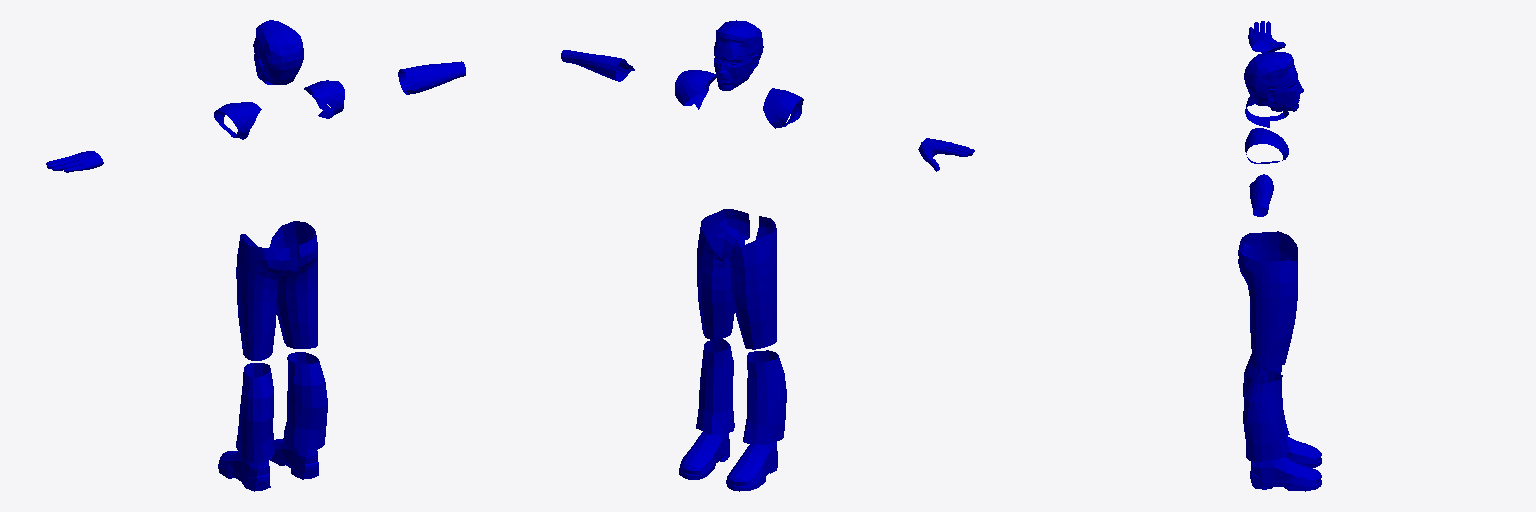
--- What the picture shows (computed from the rendered views, not written in the file) ---
3 views of the same robot in one strip: view 1: azimuth 30°, elevation 25°; view 2: azimuth 150°, elevation 25°; view 3: azimuth 270°, elevation 25° (orthographic).
Robot: vincent — 64 links, 63 joints (59 revolute, 3 prismatic, 1 fixed); root link root_link; default pose: every joint at zero.
Links seen in each view (by area): view 1: upper_left_leg_x_link, upper_right_leg_x_link, lower_right_leg_link, lower_left_leg_link, head_x_link, lower_right_arm_link, left_foot_x_link, right_foot_x_link, upper_left_arm_specula_link, upper_right_arm_specula_link, left_hand_x_link; view 2: upper_left_leg_x_link, upper_right_leg_x_link, lower_left_leg_link, lower_right_leg_link, head_x_link, left_foot_x_link, right_foot_x_link, lower_right_arm_link, upper_left_arm_specula_link, upper_right_arm_specula_link, left_hand_x_link; view 3: upper_right_leg_x_link, lower_right_leg_link, head_x_link, right_foot_x_link, upper_left_leg_x_link, lower_right_arm_link, left_hand_x_link, upper_right_arm_specula_link, left_foot_x_link.
Boxes of the visible links, bbox=[...] form: upper_left_leg_x_link: bbox=[236, 234, 290, 360]; upper_right_leg_x_link: bbox=[269, 221, 317, 348]; lower_right_leg_link: bbox=[283, 352, 327, 449]; lower_left_leg_link: bbox=[236, 363, 274, 462]; head_x_link: bbox=[253, 20, 303, 84]; lower_right_arm_link: bbox=[398, 61, 465, 94]; left_foot_x_link: bbox=[218, 451, 270, 491]; right_foot_x_link: bbox=[270, 439, 318, 479]; upper_left_arm_specula_link: bbox=[214, 102, 261, 139]; upper_right_arm_specula_link: bbox=[304, 80, 344, 118]; left_hand_x_link: bbox=[46, 151, 103, 172]; upper_left_leg_x_link: bbox=[729, 216, 776, 349]; upper_right_leg_x_link: bbox=[697, 209, 749, 340]; lower_left_leg_link: bbox=[743, 350, 786, 444]; lower_right_leg_link: bbox=[696, 339, 734, 434]; head_x_link: bbox=[714, 20, 763, 90]; left_foot_x_link: bbox=[726, 442, 777, 491]; right_foot_x_link: bbox=[679, 432, 729, 479]; lower_right_arm_link: bbox=[561, 50, 634, 81]; upper_left_arm_specula_link: bbox=[763, 88, 803, 128]; upper_right_arm_specula_link: bbox=[675, 70, 716, 109]; left_hand_x_link: bbox=[918, 138, 974, 171]; upper_right_leg_x_link: bbox=[1238, 252, 1297, 368]; lower_right_leg_link: bbox=[1243, 370, 1289, 461]; head_x_link: bbox=[1244, 52, 1303, 111]; right_foot_x_link: bbox=[1250, 456, 1321, 491]; upper_left_leg_x_link: bbox=[1238, 231, 1297, 283]; lower_right_arm_link: bbox=[1249, 174, 1273, 216]; left_hand_x_link: bbox=[1248, 21, 1285, 52]; upper_right_arm_specula_link: bbox=[1245, 128, 1288, 163]; left_foot_x_link: bbox=[1285, 436, 1321, 467].
Size in the robot's own frame: 1.71 by 0.321 by 1.77 metres.
11 mesh visuals loaded from 17 distinct referenced files (11 Collada DAE); not drawn: 6 (reference not matched to a file when rendering).

The robot description file, URDF, robot "vincent":
<?xml version="1.0"?>
<robot xmlns:sensor="http://playerstage.sourceforge.net/gazebo/xmlschema/#sensor"
       xmlns:controller="http://playerstage.sourceforge.net/gazebo/xmlschema/#controller"
       xmlns:interface="http://playerstage.sourceforge.net/gazebo/xmlschema/#interface"
       xmlns:xacro="http://playerstage.sourceforge.net/gazebo/xmlschema/#interface"
       name="vincent" >

  <material name="Blue">
    <color rgba="0.0 0.0 0.8 1.0"/>
  </material>
  <material name="Green">
    <color rgba="0.0 0.8 0.0 1.0"/>
  </material>
  <material name="Grey">
    <color rgba="0.7 0.7 0.7 1.0"/>
  </material>
  <material name="Grey2">
    <color rgba="0.9 0.9 0.9 1.0"/>
  </material>
  <material name="Red">
    <color rgba="0.8 0.0 0.0 1.0"/>
  </material>
  <material name="White">
    <color rgba="1.0 1.0 1.0 1.0"/>
  </material>
  <material name="Black">
    <color rgba="0.1 0.1 0.1 1.0"/>
  </material>
  <material name="LightGrey">
    <color rgba="0.6 0.6 0.6 1.0"/>
  </material>

  <link name="root_link"/>
  <link name="base_prismatic_dummy1"/>
  <link name="base_prismatic_dummy2"/>
  <link name="base_prismatic_dummy3"/>
  <link name="base_revolute_dummy1"/>
  <link name="base_revolute_dummy2"/>

  <joint name="base_prismatic_joint_x" type="prismatic">
    <axis xyz="1 0 0"/>
    <limit effort="10000" lower="-300.0" upper="300.0" velocity="0.6"/>
    <safety_controller k_position="100" k_velocity="2000000" soft_lower_limit="-300.0" soft_upper_limit="300.0"/>
    <calibration falling="0.00536"/>
    <dynamics damping="20000.0"/>
    <origin rpy="0 0 0" xyz="0 0 0.9619"/>
    <parent link="root_link"/>
    <child link="base_prismatic_dummy1"/>
  </joint>
  <joint name="base_prismatic_joint_y" type="prismatic">
    <axis xyz="0 1 0"/>
    <limit effort="10000" lower="-300.0" upper="300.0" velocity="0.6"/>
    <safety_controller k_position="100" k_velocity="2000000" soft_lower_limit="-300.0" soft_upper_limit="300.0"/>
    <calibration falling="0.00536"/>
    <dynamics damping="20000.0"/>
    <origin rpy="0 0 0" xyz="0 0 0"/>
    <parent link="base_prismatic_dummy1"/>
    <child link="base_prismatic_dummy2"/>
  </joint>
  <joint name="base_prismatic_joint_z" type="prismatic">
    <axis xyz="0 0 1"/>
    <limit effort="10000" lower="-10" upper="10" velocity="0.6"/>
    <safety_controller k_position="100" k_velocity="2000000" soft_lower_limit="-10" soft_upper_limit="10"/>
    <calibration falling="0.00536"/>
    <dynamics damping="20000.0"/>
    <origin rpy="0 0 0" xyz="0 0 0"/>
    <parent link="base_prismatic_dummy2"/>
    <child link="base_prismatic_dummy3"/>
  </joint>
  <joint name="base_revolute_joint_x" type="revolute">
    <axis xyz="1 0 0"/>
    <limit effort="15" lower="-1.57" upper="1.57" velocity="5"/>
    <origin rpy="0 0 0" xyz="0 0 0"/>
    <parent link="base_prismatic_dummy3"/>
    <child link="base_revolute_dummy1"/>
  </joint>
  <joint name="base_revolute_joint_y" type="revolute">
    <axis xyz="0 1 0"/>
    <limit effort="15" lower="-1.57" upper="1.57" velocity="5"/>
    <origin rpy="0 0 0" xyz="0 0 0"/>
    <parent link="base_revolute_dummy1"/>
    <child link="base_revolute_dummy2"/>
  </joint>
  <joint name="base_revolute_joint_z" type="revolute">
    <axis xyz="0 0 1"/>
    <limit effort="15" lower="-6.28" upper="6.28" velocity="5"/>
    <origin rpy="0 0 0" xyz="0 0 0"/>
    <parent link="base_revolute_dummy2"/>
    <child link="pelvis_link"/>
  </joint>  
  <link name="pelvis_link">
    <visual>
      <origin rpy="0 0 0" xyz="0 0 0"/>
      <geometry>
        <mesh filename="package://human_character_description/meshes/vincent/pelvis.dae"/>
      </geometry>
      <material name="Blue"/>
    </visual>
    <collision>
      <origin rpy="0 0 0" xyz="0 0 0"/>
      <geometry>
        <mesh filename="package://human_character_description/meshes/vincent/collision/pelvis_col.dae"/>
      </geometry>
    </collision>
    <inertial>
      <mass value="0"/>
      <inertia ixx="0.22" ixy="0.0" ixz="0.0" iyy="0.22" iyz="0.0" izz="0.23"/>
      <origin xyz="0 0 0"/>
    </inertial>
  </link>	  
  <joint name="torso_z_joint" type="revolute">
    <axis xyz="0 0 1"/>
    <limit effort="15" lower="-1.57" upper="1.57" velocity="5"/>
    <origin rpy="0 0 0" xyz="0.0 0.01576 0.09227"/>
    <parent link="pelvis_link"/>
    <child link="torso_z_link"/>
  </joint>
  <joint name="torso_y_joint" type="revolute">
    <axis xyz="0 1 0"/>
    <limit effort="15" lower="-1.57" upper="1.57" velocity="5"/>
    <origin rpy="0 0 0" xyz="0 0 0"/>
    <parent link="torso_z_link"/>
    <child link="torso_y_link"/>
  </joint>
  <joint name="torso_x_joint" type="revolute">
    <axis xyz="1 0 0"/>
    <limit effort="15" lower="-1.57" upper="0.5" velocity="5"/>
    <origin rpy="0 0 0" xyz="0 0 0"/>
    <parent link="torso_y_link"/>
    <child link="torso_x_link"/>
  </joint>  

  <link name="torso_z_link"/>
  <link name="torso_y_link"/>
  <link name="torso_x_link">
    <visual>
      <origin rpy="0 0 0" xyz="0 0 0"/>
      <geometry>
        <mesh filename="package://human_character_description/meshes/vincent/torso.dae"/>
      </geometry>
      <material name="Blue"/>
    </visual>
    <collision>
      <origin rpy="0 0 0" xyz="0 0 0"/>
      <geometry>
        <mesh filename="package://human_character_description/meshes/vincent/collision/torso_col.dae"/>
      </geometry>
    </collision>
    <inertial>
      <mass value="37.6936"/>
      <inertia ixx="1.308" ixy="0.0" ixz="0.0" iyy="1.308" iyz="0.0" izz="0.3119"/>
      <origin xyz="0 0 0.159042454"/>
    </inertial>
  </link>  
  
  <joint name="head_z_joint" type="revolute">
    <axis xyz="0 0 1"/>
    <limit effort="15" lower="-0.5" upper="0.5" velocity="5"/>
    <origin rpy="0 0 0" xyz="0.00002 -0.04885 0.48111"/>
    <parent link="torso_x_link"/>
    <child link="head_z_link"/>
  </joint>
  <joint name="head_y_joint" type="revolute">
    <axis xyz="0 1 0"/>
    <limit effort="15" lower="-0.5" upper="0.5" velocity="5"/>
    <origin rpy="0 0 0" xyz="0 0 0"/>
    <parent link="head_z_link"/>
    <child link="head_y_link"/>
  </joint>
  <joint name="head_x_joint" type="revolute">
    <axis xyz="1 0 0"/>
    <limit effort="15" lower="-0.5" upper="0.5" velocity="5"/>
    <origin rpy="0 0 0" xyz="0 0 0"/>
    <parent link="head_y_link"/>
    <child link="head_x_link"/>
  </joint>

  <link name="head_z_link"/>
  <link name="head_y_link"/>
  <link name="head_x_link">
    <visual>
      <origin rpy="0 0 0" xyz="0 0 0"/>
      <geometry>
        <mesh filename="package://human_character_description/meshes/vincent/head.dae"/>
      </geometry>
      <material name="Blue"/>
    </visual>
    <collision>
      <origin rpy="0 0 0" xyz="0 0 0"/>
      <geometry>
        <mesh filename="package://human_character_description/meshes/vincent/collision/head_col.dae"/>
      </geometry>
    </collision>
    <inertial>
      <mass value="5.4166"/>
      <inertia ixx="0.0248" ixy="0.0" ixz="0.0" iyy="0.0248" iyz="0.0" izz="0.0"/>
      <origin xyz="0.0 0.0 0.117409854"/>
    </inertial>
  </link>
  
  <joint name="head_endeffector_joint" type="fixed">
    <axis xyz="0 0 1"/>
    <limit effort="15" lower="-0.001" upper="0.001" velocity="5"/>
    <origin rpy="0 0 0" xyz="0 0.00981 0.21913"/>
    <parent link="head_x_link"/>
    <child link="head_endeffector_link"/>
  </joint>

  <link name="head_endeffector_link"/>

  <joint name="upper_left_leg_z_joint" type="revolute">
    <axis xyz="0 0 1"/>
    <limit effort="15" lower="-3.14" upper="3.14" velocity="5"/>
    <origin rpy="0 0 0" xyz="-0.09633 -0.00001 -0.03273"/>
    <parent link="pelvis_link"/>
    <child link="upper_left_leg_z_link"/>
  </joint>
  <joint name="upper_left_leg_y_joint" type="revolute">
    <axis xyz="0 1 0"/>
    <limit effort="15" lower="-3.14" upper="3.14" velocity="5"/>
    <origin rpy="0 0 0" xyz="0 0 0"/>
    <parent link="upper_left_leg_z_link"/>
    <child link="upper_left_leg_y_link"/>
  </joint>
  <joint name="upper_left_leg_x_joint" type="revolute">
    <axis xyz="1 0 0"/>
    <limit effort="15" lower="-3.14" upper="3.14" velocity="5"/>
    <origin rpy="0 0 0" xyz="0 0 0"/>
    <parent link="upper_left_leg_y_link"/>
    <child link="upper_left_leg_x_link"/>
  </joint>

  <link name="upper_left_leg_z_link"/>
  <link name="upper_left_leg_y_link"/>
  <link name="upper_left_leg_x_link">
    <visual>
      <origin rpy="0 0 0" xyz="0 0 0"/>
      <geometry>
        <mesh filename="package://human_character_description/meshes/vincent/l_upperleg.dae"/>
      </geometry>
      <material name="Blue"/>
    </visual>
    <collision>
      <origin rpy="0 0 0" xyz="0 0 0"/>
      <geometry>
        <mesh filename="package://human_character_description/meshes/vincent/collision/l_upperleg_col.dae"/>
      </geometry>
    </collision>
    <inertial>
      <mass value="7.33096"/>
      <inertia ixx="0.1502" ixy="0.0" ixz="0.0" iyy="0.1502" iyz="0.0" izz="0.0"/>
      <origin xyz="0.0 0.0 -0.18082513"/>
    </inertial>
  </link>

  <joint name="lower_left_leg_joint" type="revolute">
    <axis xyz="1 0 0"/>
    <limit effort="15" lower="-3.14" upper="0.1" velocity="5"/>
    <origin rpy="0 0 0" xyz="0 -0.00654 -0.41761"/>
    <parent link="upper_left_leg_x_link"/>
    <child link="lower_left_leg_link"/>
  </joint>

  <link name="lower_left_leg_link">
    <visual>
      <origin rpy="0 0 0" xyz="0 0 0"/>
      <geometry>
        <mesh filename="package://human_character_description/meshes/vincent/l_lowerleg.dae"/>
      </geometry>
      <material name="Blue"/>
    </visual>
    <collision>
      <origin rpy="0 0 0" xyz="0 0 0"/>
      <geometry>
        <mesh filename="package://human_character_description/meshes/vincent/collision/l_lowerleg_col.dae"/>
      </geometry>
    </collision>
    <inertial>
      <mass value="3.4503"/>
      <inertia ixx="0.0505" ixy="0.0" ixz="0.0" iyy="0.0505" iyz="0.0" izz="0.0"/>
      <origin xyz="0.0 0.0 -0.16954548"/>
    </inertial>
  </link>

  <joint name="left_foot_z_joint" type="revolute">
    <axis xyz="0 0 1"/>
    <limit effort="15" lower="-3.14" upper="3.14" velocity="5"/>
    <origin rpy="0 0 0" xyz="-0.00012 -0.01923 -0.39156"/>
    <parent link="lower_left_leg_link"/>
    <child link="left_foot_z_link"/>
  </joint>
  <joint name="left_foot_y_joint" type="revolute">
    <axis xyz="0 1 0"/>
    <limit effort="15" lower="-3.14" upper="3.14" velocity="5"/>
    <origin rpy="0 0 0" xyz="0 0 0"/>
    <parent link="left_foot_z_link"/>
    <child link="left_foot_y_link"/>
  </joint>
  <joint name="left_foot_x_joint" type="revolute">
    <axis xyz="1 0 0"/>
    <limit effort="15" lower="-3.14" upper="3.14" velocity="5"/>
    <origin rpy="0 0 0" xyz="0 0 0"/>
    <parent link="left_foot_y_link"/>
    <child link="left_foot_x_link"/>
  </joint>

  <link name="left_foot_z_link"/>
  <link name="left_foot_y_link"/>
  <link name="left_foot_x_link">
    <visual>
      <origin rpy="0 0 0" xyz="0 0 0"/>
      <geometry>
        <mesh filename="package://human_character_description/meshes/vincent/l_foot.dae"/>
      </geometry>
      <material name="Blue"/>
    </visual>
    <collision>
      <origin rpy="0 0 0" xyz="0 0 0"/>
      <geometry>
        <mesh filename="package://human_character_description/meshes/vincent/collision/l_foot_col.dae"/>
      </geometry>
    </collision>
    <inertial>
      <mass value="1.0759"/>
      <inertia ixx="0.0" ixy="0.0" ixz="0.0" iyy="0.0038" iyz="0.0" izz="0.0"/>
      <origin xyz="-0.00861 0.08296 -0.06"/>
    </inertial>
  </link>
	
	  
  <joint name="left_foot_endeffector_joint" type="revolute">
    <axis xyz="0 0 1"/>
    <limit effort="15" lower="0.0" upper="0.0" velocity="5"/>
    <origin rpy="0 0 0" xyz="0 0 -0.12"/>
    <parent link="left_foot_x_link"/>
    <child link="left_foot_endeffector_link"/>
  </joint>

  <link name="left_foot_endeffector_link"/>  

  <joint name="upper_right_leg_z_joint" type="revolute">
    <axis xyz="0 0 1"/>
    <limit effort="15" lower="-3.14" upper="3.14" velocity="5"/>
    <origin rpy="0 0 0" xyz="0.09635 -0.00001 -0.03273"/> 
    <parent link="pelvis_link"/>
    <child link="upper_right_leg_z_link"/>
  </joint>
  <joint name="upper_right_leg_y_joint" type="revolute">
    <axis xyz="0 1 0"/>
    <limit effort="15" lower="-3.14" upper="3.14" velocity="5"/>
    <origin rpy="0 0 0" xyz="0 0 0"/>
    <parent link="upper_right_leg_z_link"/>
    <child link="upper_right_leg_y_link"/>
  </joint>
  <joint name="upper_right_leg_x_joint" type="revolute">
    <axis xyz="1 0 0"/>
    <limit effort="15" lower="-3.14" upper="3.14" velocity="5"/>
    <origin rpy="0 0 0" xyz="0 0 0"/>
    <parent link="upper_right_leg_y_link"/>
    <child link="upper_right_leg_x_link"/>
  </joint>

  <link name="upper_right_leg_z_link"/>
  <link name="upper_right_leg_y_link"/>
  <link name="upper_right_leg_x_link">
    <visual>
      <origin rpy="0 0 0" xyz="0 0 0"/>
      <geometry>
        <mesh filename="package://human_character_description/meshes/vincent/r_upperleg.dae"/>
      </geometry>
      <material name="Blue"/>
    </visual>
    <collision>
      <origin rpy="0 0 0" xyz="0 0 0"/>
      <geometry>
        <mesh filename="package://human_character_description/meshes/vincent/collision/r_upperleg_col.dae"/>
      </geometry>
    </collision>
    <inertial>
      <mass value="7.33096"/>
      <inertia ixx="0.1502" ixy="0.0" ixz="0.0" iyy="0.1502" iyz="0.0" izz="0.0"/>
      <origin xyz="0.0 0.0 -0.18082513"/>
    </inertial>
  </link>

  <joint name="lower_right_leg_joint" type="revolute">
    <axis xyz="1 0 0"/>
    <limit effort="15" lower="-3.14" upper="0.1" velocity="5"/>
    <origin rpy="0 0 0" xyz="0 -0.00654 -0.41761"/>
    <parent link="upper_right_leg_x_link"/>
    <child link="lower_right_leg_link"/>
  </joint>

  <link name="lower_right_leg_link">
    <visual>
      <origin rpy="0 0 0" xyz="0 0 0"/>
      <geometry>
        <mesh filename="package://human_character_description/meshes/vincent/r_lowerleg.dae"/>
      </geometry>
      <material name="Blue"/>
    </visual>
    <collision>
      <origin rpy="0 0 0" xyz="0 0 0"/>
      <geometry>
        <mesh filename="package://human_character_description/meshes/vincent/collision/r_lowerleg_col.dae"/>
      </geometry>
    </collision>
    <inertial>
      <mass value="3.4503"/>
      <inertia ixx="0.0505" ixy="0.0" ixz="0.0" iyy="0.0505" iyz="0.0" izz="0.0"/>
      <origin xyz="0.0 0.0 -0.16954548"/>
    </inertial>
  </link>

  <joint name="right_foot_z_joint" type="revolute">
    <axis xyz="0 0 1"/>
    <limit effort="15" lower="-3.14" upper="3.14" velocity="5"/>
    <origin rpy="0 0 0" xyz="-0.00013 -0.01923 -0.39156"/>
    <parent link="lower_right_leg_link"/>
    <child link="right_foot_z_link"/>
  </joint>
  <joint name="right_foot_y_joint" type="revolute">
    <axis xyz="0 1 0"/>
    <limit effort="15" lower="-3.14" upper="3.14" velocity="5"/>
    <origin rpy="0 0 0" xyz="0 0 0"/>
    <parent link="right_foot_z_link"/>
    <child link="right_foot_y_link"/>
  </joint>
  <joint name="right_foot_x_joint" type="revolute">
    <axis xyz="1 0 0"/>
    <limit effort="15" lower="-3.14" upper="3.14" velocity="5"/>
    <origin rpy="0 0 0" xyz="0 0 0"/>
    <parent link="right_foot_y_link"/>
    <child link="right_foot_x_link"/>
  </joint>

  <link name="right_foot_z_link"/>
  <link name="right_foot_y_link"/>
  <link name="right_foot_x_link">
    <visual>
      <origin rpy="0 0 0" xyz="0 0 0"/>
      <geometry>
        <mesh filename="package://human_character_description/meshes/vincent/r_foot.dae"/>
      </geometry>
      <material name="Blue"/>
    </visual>
    <collision>
      <origin rpy="0 0 0" xyz="0 0 0"/>
      <geometry>
        <mesh filename="package://human_character_description/meshes/vincent/collision/r_foot_col.dae"/>
      </geometry>
    </collision>
    <inertial>
      <mass value="1.0759"/>
      <inertia ixx="0.0" ixy="0.0" ixz="0.0" iyy="0.0038" iyz="0.0" izz="0.0"/>
      <origin xyz="0.00861 0.08296 -0.06"/>
    </inertial>
  </link>
  	  
  <joint name="right_foot_endeffector_joint" type="revolute">
    <axis xyz="0 0 1"/>
    <limit effort="15" lower="0.0" upper="0.0" velocity="5"/>
    <origin rpy="0 0 0" xyz="0 0 -0.12"/>
    <parent link="right_foot_x_link"/>
    <child link="right_foot_endeffector_link"/>
  </joint>

  <link name="right_foot_endeffector_link"/>

  <joint name="upper_left_specula_joint" type="revolute">
    <axis xyz="0 0 1"/>
    <limit effort="15" lower="-0.5" upper="0.5" velocity="5"/>
    <origin rpy="0 0 0" xyz="-0.06142 -0.05251 0.4008"/>
    <parent link="torso_x_link"/>
    <child link="upper_left_arm_specula_link"/>
  </joint>
  
  <link name="upper_left_arm_specula_link">
      <visual>
      <origin rpy="0 0 0" xyz="0 0 0"/>
      <geometry>
        <mesh filename="package://human_character_description/meshes/vincent/l_speculum.dae"/>
      </geometry>
      <material name="Blue"/>
    </visual>
    <collision>
      <origin rpy="0 0 0" xyz="0 0 0"/>
      <geometry>
        <mesh filename="package://human_character_description/meshes/vincent/collision/l_speculum_col.dae"/>
      </geometry>
    </collision>
    <inertial>
      <mass value="0.0"/>
      <inertia ixx="0.01" ixy="0.0" ixz="0.0" iyy="0.01" iyz="0.0" izz="0.01"/>
      <origin xyz="0.0 0.0 0.0"/>
    </inertial>
  </link>

  <joint name="upper_left_arm_x_joint" type="revolute">
    <axis xyz="1 0 0"/>
    <limit effort="15" lower="-6.28" upper="6.28" velocity="5"/>
    <origin rpy="0 0 0" xyz="-0.12319 0.0363053 -0.01113"/>
    <parent link="upper_left_arm_specula_link"/>
    <child link="upper_left_arm_x_link"/>
  </joint>
  <joint name="upper_left_arm_y_joint" type="revolute">
    <axis xyz="0 1 0"/>
    <limit effort="15" lower="-6.28" upper="6.28" velocity="5"/>
    <origin rpy="0 0 0" xyz="0 0 0"/>
    <parent link="upper_left_arm_x_link"/>
    <child link="upper_left_arm_y_link"/>
  </joint>
  <joint name="upper_left_arm_z_joint" type="revolute">
    <axis xyz="0 0 1"/>
    <limit effort="15" lower="-6.28" upper="6.28" velocity="5"/>
    <origin rpy="0 0 0" xyz="0 0 0"/>
    <parent link="upper_left_arm_y_link"/>
    <child link="upper_left_arm_z_link"/>
  </joint>

  <link name="upper_left_arm_x_link"/>
  <link name="upper_left_arm_y_link"/>
  <link name="upper_left_arm_z_link">
    <visual>
      <origin rpy="0 0 0" xyz="0 0 0"/>
      <geometry>
        <mesh filename="package://human_character_description/meshes/vincent/l_upperarm.dae"/>
      </geometry>
      <material name="Blue"/>
    </visual>
    <collision>
      <origin rpy="0 0 0" xyz="0 0 0"/>
      <geometry>
        <mesh filename="package://human_character_description/meshes/vincent/collision/l_upperarm_col.dae"/>
      </geometry>
    </collision>
    <inertial>
      <mass value="2.0034"/>
      <inertia ixx="0.0" ixy="0.0" ixz="0.0" iyy="0.0213" iyz="0.0" izz="0.0213"/>
      <origin xyz="-0.12071532 0.0 0.0"/>
    </inertial>
  </link>

  <joint name="lower_left_arm_joint" type="revolute">
    <axis xyz="0 0 1"/>
    <limit effort="15" lower="-2.5" upper="0.1" velocity="5"/>
    <origin rpy="0 0 0" xyz="-0.27687 -0.02 0.0"/>
    <parent link="upper_left_arm_z_link"/>
    <child link="lower_left_arm_link"/>
  </joint>

  <link name="lower_left_arm_link">
    <visual>
      <origin rpy="0 0 0" xyz="0 0 0"/>
      <geometry>
        <mesh filename="package://human_character_description/meshes/vincent/l_forearm.dae"/>
      </geometry>
      <material name="Blue"/>
    </visual>
    <collision>
      <origin rpy="0 0 0" xyz="0 0 0"/>
      <geometry>
        <mesh filename="package://human_character_description/meshes/vincent/collision/l_forearm_col.dae"/>
      </geometry>
    </collision>
    <inertial>
      <mass value="1.1872"/>
      <inertia ixx="0.0" ixy="0.0" ixz="0.0" iyy="0.076" iyz="0.0" izz="0.076"/>
      <origin xyz="-0.1198582 0.0 0.0"/>
    </inertial>
  </link>

  <joint name="left_hand_z_joint" type="revolute">
    <axis xyz="0 0 1"/>
    <limit effort="15" lower="-6.28" upper="6.28" velocity="5"/>
    <origin rpy="0 0 0" xyz="-0.27874 0.0 0.0"/>
    <parent link="lower_left_arm_link"/>
    <child link="left_hand_z_link"/>
  </joint>
  <joint name="left_hand_y_joint" type="revolute">
    <axis xyz="0 1 0"/>
    <limit effort="15" lower="-6.28" upper="6.28" velocity="5"/>
    <origin rpy="0 0 0" xyz="0 0 0"/>
    <parent link="left_hand_z_link"/>
    <child link="left_hand_y_link"/>
  </joint>
  <joint name="left_hand_x_joint" type="revolute">
    <axis xyz="1 0 0"/>
    <limit effort="15" lower="-6.28" upper="6.28" velocity="5"/>
    <origin rpy="0 0 0" xyz="0 0 0"/>
    <parent link="left_hand_y_link"/>
    <child link="left_hand_x_link"/>
  </joint>

  <link name="left_hand_z_link"/>
  <link name="left_hand_y_link"/>
  <link name="left_hand_x_link">
    <visual>
      <origin rpy="0 0 0" xyz="0 0 0"/>
      <geometry>
        <mesh filename="package://human_character_description/meshes/vincent/l_hand.dae"/>
      </geometry>
      <material name="Blue"/>
    </visual>
    <collision>
      <origin rpy="0 0 0" xyz="0 0 0"/>
      <geometry>
        <mesh filename="package://human_character_description/meshes/vincent/collision/l_hand_col.dae"/>
      </geometry>
    </collision>
    <inertial>
      <mass value="0.48972"/>
      <inertia ixx="0.0" ixy="0.0" ixz="0.0" iyy="0.0005" iyz="0.0" izz="0.0005"/>
      <origin xyz="-0.04806494 0.0 0.0"/>
    </inertial>
  </link>

  <joint name="left_hand_endeffector_joint" type="revolute">
    <axis xyz="0 0 1"/>
    <limit effort="15" lower="-0.001" upper="0.001" velocity="5"/>
    <origin rpy="0 0 0" xyz="-0.015 0.0 -0.01"/>
        <parent link="left_hand_x_link"/>
    <child link="left_hand_endeffector_link"/>
  </joint>

  <link name="left_hand_endeffector_link"/>
  
  <joint name="upper_right_specula_joint" type="revolute">
    <axis xyz="0 0 1"/>
    <limit effort="15" lower="-0.5" upper="0.5" velocity="5"/>
    <origin rpy="0 0 0" xyz="0.06142 -0.05251 0.4008"/>
    <parent link="torso_x_link"/>
    <child link="upper_right_arm_specula_link"/>
  </joint>
    
  <link name="upper_right_arm_specula_link">
      <visual>
      <origin rpy="0 0 0" xyz="0 0 0"/>
      <geometry>
        <mesh filename="package://human_character_description/meshes/vincent/r_speculum.dae"/>
      </geometry>
      <material name="Blue"/>
    </visual>
    <collision>
      <origin rpy="0 0 0" xyz="0 0 0"/>
      <geometry>
        <mesh filename="package://human_character_description/meshes/vincent/collision/r_speculum_col.dae"/>
      </geometry>
    </collision>
    <inertial>
      <mass value="0.0"/>
      <inertia ixx="0.01" ixy="0.0" ixz="0.0" iyy="0.01" iyz="0.0" izz="0.01"/>
      <origin xyz="0.0 0.0 0.0"/>
    </inertial>
  </link>

  <joint name="upper_right_arm_x_joint" type="revolute">
    <axis xyz="1 0 0"/>
    <limit effort="15" lower="-6.28" upper="6.28" velocity="5"/>
    <origin rpy="0 0 0" xyz="0.12323 0.0363053 -0.01113"/>
    <parent link="upper_right_arm_specula_link"/>
    <child link="upper_right_arm_x_link"/>
  </joint>
  <joint name="upper_right_arm_y_joint" type="revolute">
    <axis xyz="0 1 0"/>
    <limit effort="15" lower="-6.28" upper="6.28" velocity="5"/>
    <origin rpy="0 0 0" xyz="0 0 0"/>
    <parent link="upper_right_arm_x_link"/>
    <child link="upper_right_arm_y_link"/>
  </joint>
  <joint name="upper_right_arm_z_joint" type="revolute">
    <axis xyz="0 0 1"/>
    <limit effort="15" lower="-6.28" upper="6.28" velocity="5"/>
    <origin rpy="0 0 0" xyz="0 0 0"/>
    <parent link="upper_right_arm_y_link"/>
    <child link="upper_right_arm_z_link"/>
  </joint>

  <link name="upper_right_arm_x_link"/>
  <link name="upper_right_arm_y_link"/>
  <link name="upper_right_arm_z_link">
    <visual>
      <origin rpy="0 0 0" xyz="0 0 0"/>
      <geometry>
        <mesh filename="package://human_character_description/meshes/vincent/r_upperarm.dae"/>
      </geometry>
      <material name="Blue"/>
    </visual>
    <collision>
      <origin rpy="0 0 0" xyz="0 0 0"/>
      <geometry>
        <mesh filename="package://human_character_description/meshes/vincent/collision/r_upperarm_col.dae"/>
      </geometry>
    </collision>
    <inertial>
      <mass value="2.0034"/>
      <inertia ixx="0.0" ixy="0.0" ixz="0.0" iyy="0.0213" iyz="0.0" izz="0.0213"/>
      <origin xyz="0.12071532 0.0 0.0"/>
    </inertial>
  </link>


  <joint name="lower_right_arm_joint" type="revolute">
    <axis xyz="0 0 1"/>
    <limit effort="15" lower="-0.1" upper="2.5" velocity="5"/>
    <origin rpy="0 0 0" xyz="0.27687 -0.02 0.0"/>
    <parent link="upper_right_arm_z_link"/>
    <child link="lower_right_arm_link"/>
  </joint>

  <link name="lower_right_arm_link">
    <visual>
      <origin rpy="0 0 0" xyz="0 0 0"/>
      <geometry>
        <mesh filename="package://human_character_description/meshes/vincent/r_forearm.dae"/>
      </geometry>
      <material name="Blue"/>
    </visual>
    <collision>
      <origin rpy="0 0 0" xyz="0 0 0"/>
      <geometry>
        <mesh filename="package://human_character_description/meshes/vincent/collision/r_forearm_col.dae"/>
      </geometry>
    </collision>
    <inertial>
      <mass value="1.1872"/>
      <inertia ixx="0.0" ixy="0.0" ixz="0.0" iyy="0.076" iyz="0.0" izz="0.076"/>
      <origin xyz="0.1198582 0.0 0.0"/>
    </inertial>
  </link>

  <joint name="right_hand_z_joint" type="revolute">
    <axis xyz="0 0 1"/>
    <limit effort="15" lower="-6.28" upper="6.28" velocity="5"/>
    <origin rpy="0 0 0" xyz="0.27874 0.0 0.0"/>
    <parent link="lower_right_arm_link"/>
    <child link="right_hand_z_link"/>
  </joint>
  <joint name="right_hand_y_joint" type="revolute">
    <axis xyz="0 1 0"/>
    <limit effort="15" lower="-6.28" upper="6.28" velocity="5"/>
    <origin rpy="0 0 0" xyz="0 0 0"/>
    <parent link="right_hand_z_link"/>
    <child link="right_hand_y_link"/>
  </joint>
  <joint name="right_hand_x_joint" type="revolute">
    <axis xyz="1 0 0"/>
    <limit effort="15" lower="-6.28" upper="6.28" velocity="5"/>
    <origin rpy="0 0 0" xyz="0 0 0"/>
    <parent link="right_hand_y_link"/>
    <child link="right_hand_x_link"/>
  </joint>

  <link name="right_hand_z_link"/>
  <link name="right_hand_y_link"/>
  <link name="right_hand_x_link">
    <visual>
      <origin rpy="0 0 0" xyz="0 0 0"/>
      <geometry>
        <mesh filename="package://human_character_description/meshes/vincent/r_hand.dae"/>
      </geometry>
      <material name="Blue"/>
    </visual>
    <collision>
      <origin rpy="0 0 0" xyz="0 0 0"/>
      <geometry>
        <mesh filename="package://human_character_description/meshes/vincent/collision/r_hand_col.dae"/>
      </geometry>
    </collision>
    <inertial>
      <mass value="0.48972"/>
      <inertia ixx="0.0" ixy="0.0" ixz="0.0" iyy="0.0005" iyz="0.0" izz="0.0005"/>
      <origin xyz="0.04806494 0.0 0.0"/>
    </inertial>
  </link>

  <joint name="right_hand_endeffector_joint" type="revolute">
    <axis xyz="0 0 1"/>
    <limit effort="15" lower="-0.001" upper="0.001" velocity="5"/>
    <origin rpy="0 0 0" xyz="0.015 0.0 -0.01"/>
    <parent link="right_hand_x_link"/>
    <child link="right_hand_endeffector_link"/>
  </joint>

  <link name="right_hand_endeffector_link"/>

  <link name="left_foot_cp_1_link"/>
  <link name="left_foot_cp_2_link"/>
  <link name="left_foot_cp_3_link"/>
  <link name="left_foot_cp_4_link"/>

  <joint name="left_foot_cp_1_joint" type="revolute">
    <axis xyz="0 0 1"/>
    <limit effort="15" lower="0" upper="0" velocity="5"/>
    <origin rpy="0 0 0" xyz="0.04 0.22 0.0"/>
    <parent link="left_foot_endeffector_link"/>
    <child link="left_foot_cp_1_link"/>
  </joint>
  <joint name="left_foot_cp_2_joint" type="revolute">
    <axis xyz="0 0 1"/>
    <limit effort="15" lower="0" upper="0" velocity="5"/>
    <origin rpy="0 0 0" xyz="-0.06 0.22 0.0"/>
    <parent link="left_foot_endeffector_link"/>
    <child link="left_foot_cp_2_link"/>
  </joint>
  <joint name="left_foot_cp_3_joint" type="revolute">
    <axis xyz="0 0 1"/>
    <limit effort="15" lower="0" upper="0" velocity="5"/>
    <origin rpy="0 0 0" xyz="-0.06 -0.02 0.0"/>
    <parent link="left_foot_endeffector_link"/>
    <child link="left_foot_cp_3_link"/>
  </joint>
  <joint name="left_foot_cp_4_joint" type="revolute">
    <axis xyz="0 0 1"/>
    <limit effort="15" lower="0" upper="0" velocity="5"/>
    <origin rpy="0 0 0" xyz="0.03 -0.02 0.0"/>
    <parent link="left_foot_endeffector_link"/>
    <child link="left_foot_cp_4_link"/>
  </joint>

  <link name="right_foot_cp_1_link"/>
  <link name="right_foot_cp_2_link"/>
  <link name="right_foot_cp_3_link"/>
  <link name="right_foot_cp_4_link"/>

  <joint name="right_foot_cp_1_joint" type="revolute">
    <axis xyz="0 0 1"/>
    <limit effort="15" lower="0" upper="0" velocity="5"/>
    <origin rpy="0 0 0" xyz="-0.04 0.22 0.0"/>
    <parent link="right_foot_endeffector_link"/>
    <child link="right_foot_cp_1_link"/>
  </joint>
  <joint name="right_foot_cp_2_joint" type="revolute">
    <axis xyz="0 0 1"/>
    <limit effort="15" lower="0" upper="0" velocity="5"/>
    <origin rpy="0 0 0" xyz="0.06 0.22 0.0"/>
    <parent link="right_foot_endeffector_link"/>
    <child link="right_foot_cp_2_link"/>
  </joint>
  <joint name="right_foot_cp_3_joint" type="revolute">
    <axis xyz="0 0 1"/>
    <limit effort="15" lower="0" upper="0" velocity="5"/>
    <origin rpy="0 0 0" xyz="0.06 -0.02 0.0"/>
    <parent link="right_foot_endeffector_link"/>
    <child link="right_foot_cp_3_link"/>
  </joint>
  <joint name="right_foot_cp_4_joint" type="revolute">
    <axis xyz="0 0 1"/>
    <limit effort="15" lower="0" upper="0" velocity="5"/>
    <origin rpy="0 0 0" xyz="-0.03 -0.02 0.0"/>
    <parent link="right_foot_endeffector_link"/>
    <child link="right_foot_cp_4_link"/>
  </joint>

  <link name="left_hand_cp_1_link"/>
  <link name="left_hand_cp_2_link"/>
  <link name="left_hand_cp_3_link"/>
  <link name="left_hand_cp_4_link"/>

  <joint name="left_hand_cp_1_joint" type="revolute">
    <axis xyz="0 0 1"/>
    <limit effort="15" lower="0" upper="0" velocity="5"/>
    <origin rpy="0 0 0" xyz="-0.08 0.025 0"/>
    <parent link="left_hand_endeffector_link"/>
    <child link="left_hand_cp_1_link"/>
  </joint>
  <joint name="left_hand_cp_2_joint" type="revolute">
    <axis xyz="0 0 1"/>
    <limit effort="15" lower="0" upper="0" velocity="5"/>
    <origin rpy="0 0 0" xyz="-0.08 -0.02 0"/>
    <parent link="left_hand_endeffector_link"/>
    <child link="left_hand_cp_2_link"/>
  </joint>
  <joint name="left_hand_cp_3_joint" type="revolute">
    <axis xyz="0 0 1"/>
    <limit effort="15" lower="0" upper="0" velocity="5"/>
    <origin rpy="0 0 0" xyz="0.0 -0.02 0"/>
    <parent link="left_hand_endeffector_link"/>
    <child link="left_hand_cp_3_link"/>
  </joint>
  <joint name="left_hand_cp_4_joint" type="revolute">
    <axis xyz="0 0 1"/>
    <limit effort="15" lower="0" upper="0" velocity="5"/>
    <origin rpy="0 0 0" xyz="0.0 0.025 0"/>
    <parent link="left_hand_endeffector_link"/>
    <child link="left_hand_cp_4_link"/>
  </joint>

  <link name="right_hand_cp_1_link"/>
  <link name="right_hand_cp_2_link"/>
  <link name="right_hand_cp_3_link"/>
  <link name="right_hand_cp_4_link"/>

  <joint name="right_hand_cp_1_joint" type="revolute">
    <axis xyz="0 0 1"/>
    <limit effort="15" lower="0" upper="0" velocity="5"/>
    <origin rpy="0 0 0" xyz="0.08 0.025 0"/>
    <parent link="right_hand_endeffector_link"/>
    <child link="right_hand_cp_1_link"/>
  </joint>
  <joint name="right_hand_cp_2_joint" type="revolute">
    <axis xyz="0 0 1"/>
    <limit effort="15" lower="0" upper="0" velocity="5"/>
    <origin rpy="0 0 0" xyz="0.08 -0.02 0"/>
    <parent link="right_hand_endeffector_link"/>
    <child link="right_hand_cp_2_link"/>
  </joint>
  <joint name="right_hand_cp_3_joint" type="revolute">
    <axis xyz="0 0 1"/>
    <limit effort="15" lower="0" upper="0" velocity="5"/>
    <origin rpy="0 0 0" xyz="0.0 -0.02 0"/>
    <parent link="right_hand_endeffector_link"/>
    <child link="right_hand_cp_3_link"/>
  </joint>
  <joint name="right_hand_cp_4_joint" type="revolute">
    <axis xyz="0 0 1"/>
    <limit effort="15" lower="0" upper="0" velocity="5"/>
    <origin rpy="0 0 0" xyz="0.0 0.025 0"/>
    <parent link="right_hand_endeffector_link"/>
    <child link="right_hand_cp_4_link"/>
  </joint>

</robot>
